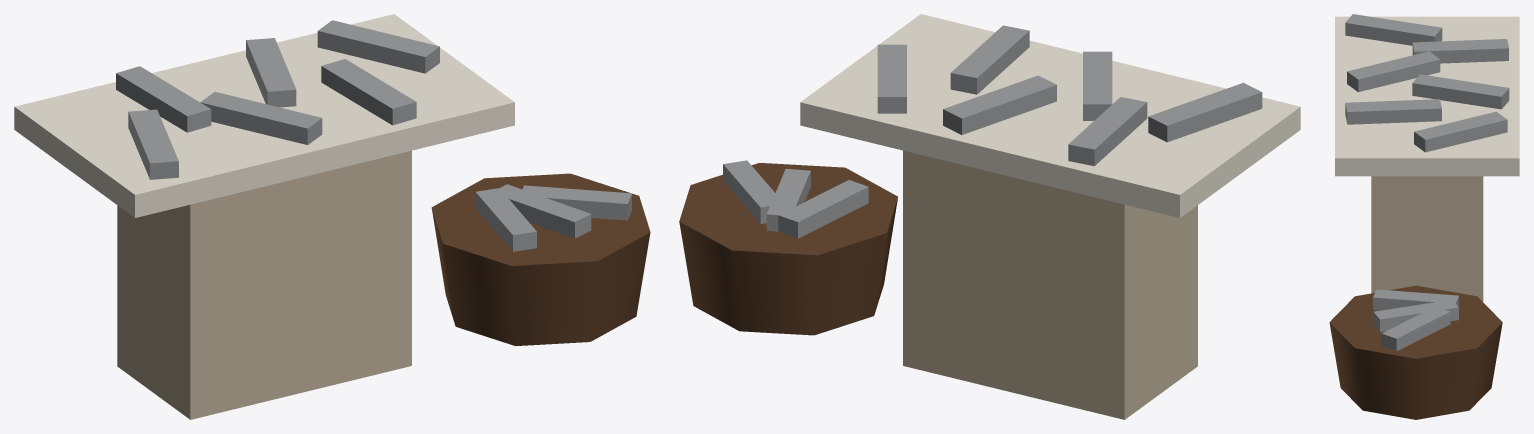
The model's file is rome_wares_fish.glb.
The picture shows the model from 3 angles, left to right: view 1: azimuth 30°, elevation 25°; view 2: azimuth 150°, elevation 25°; view 3: azimuth 270°, elevation 25°; orthographic projection. The views are drawn at different scales.
Parts seen in each view (by area): view 1: rome_wares_fish; view 2: rome_wares_fish; view 3: rome_wares_fish.
Boxes of the visible parts, x1,y1,x2,y2 form: rome_wares_fish: (14, 14, 650, 419); rome_wares_fish: (679, 14, 1300, 419); rome_wares_fish: (1329, 14, 1519, 419).
Bounding box in the file's own units: 1.76 × 0.84 × 0.68.
